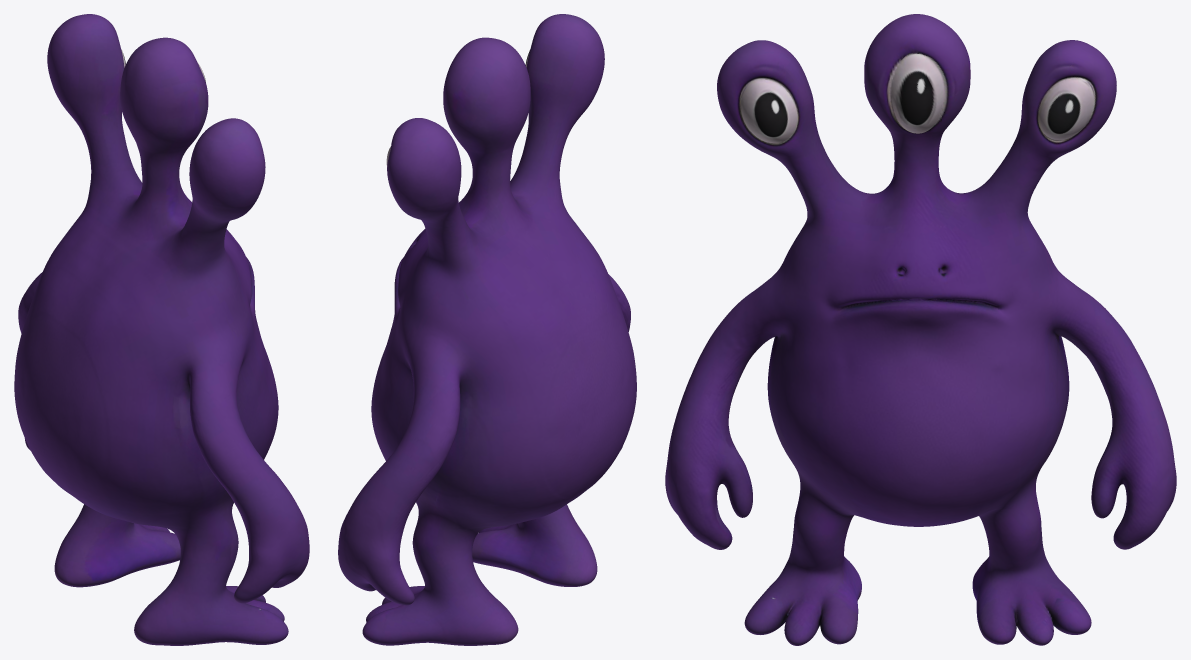
The model's file is monster2.glb.
3 views of the same model, side by side, from view 1: azimuth 30°, elevation 25°; view 2: azimuth 150°, elevation 25°; view 3: azimuth 270°, elevation 25° (orthographic). The views are drawn at different scales.
Visible parts, largest first — view 1: tripo_node_8283fd0d-b14a-4b67-ae12-dff249ffb7f4; view 2: tripo_node_8283fd0d-b14a-4b67-ae12-dff249ffb7f4; view 3: tripo_node_8283fd0d-b14a-4b67-ae12-dff249ffb7f4.
Part boxes in pixels (box(x1,y1,x2,y2)): tripo_node_8283fd0d-b14a-4b67-ae12-dff249ffb7f4: box(14, 14, 309, 645); tripo_node_8283fd0d-b14a-4b67-ae12-dff249ffb7f4: box(338, 14, 636, 645); tripo_node_8283fd0d-b14a-4b67-ae12-dff249ffb7f4: box(665, 14, 1176, 645).
Size of the model in its own units: 0.4088 by 1 by 0.7709.
1 material, 1 textured.
